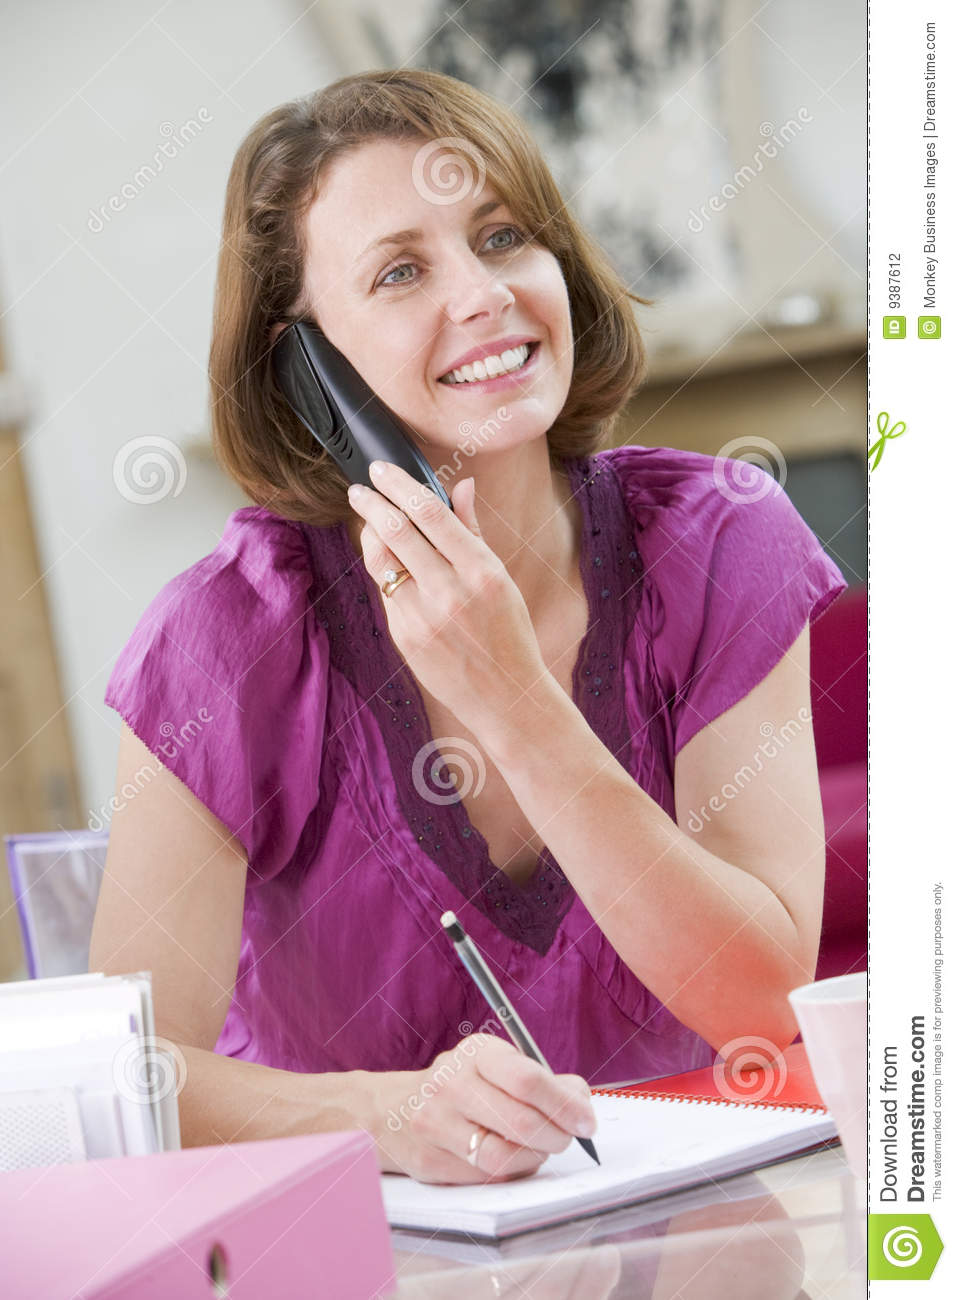phone: (282, 311, 457, 546)
talk: (285, 192, 580, 748)
